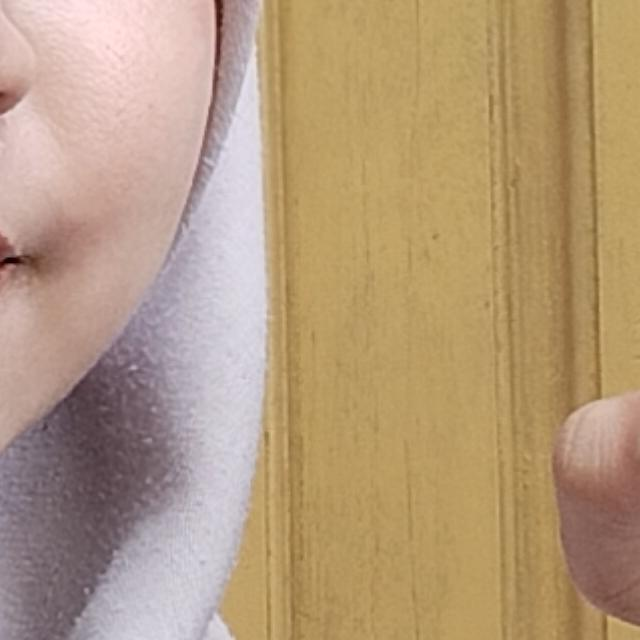baik: (416, 58, 640, 640)
